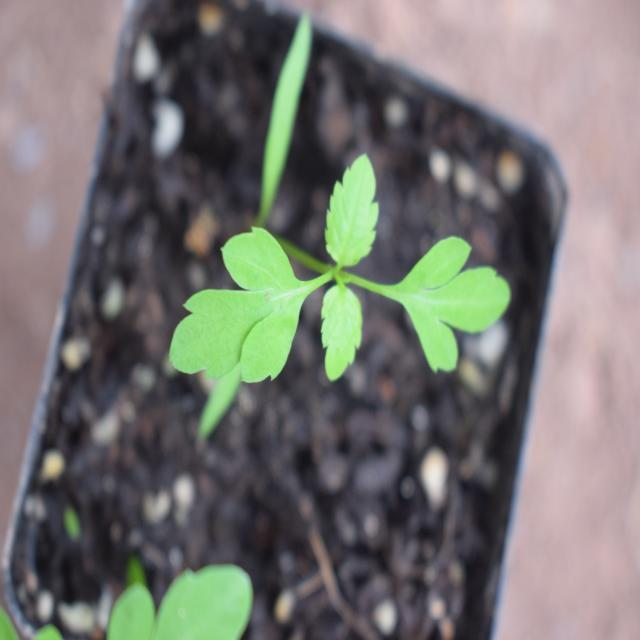Bidens pilosa: (148, 123, 502, 413)
